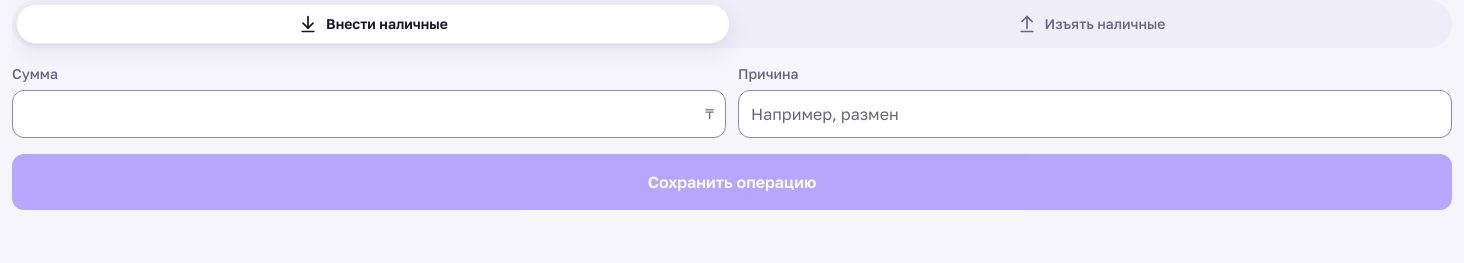
Test case: cash-out copy › mentions the manager's PIN for a cash-out (every one needs it), not for a plain cash-in
Click the radio button labelled "Изъять наличные" at (1091, 24), box top-left (734, 4), bottom-right (1448, 44)
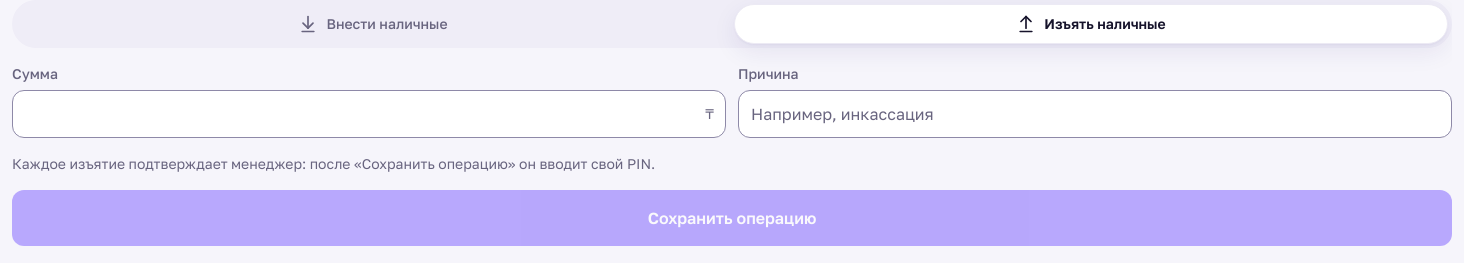
Expected: the text "Каждое изъятие подтверждает менеджер" is shown, top-left (12, 155), bottom-right (655, 172)
